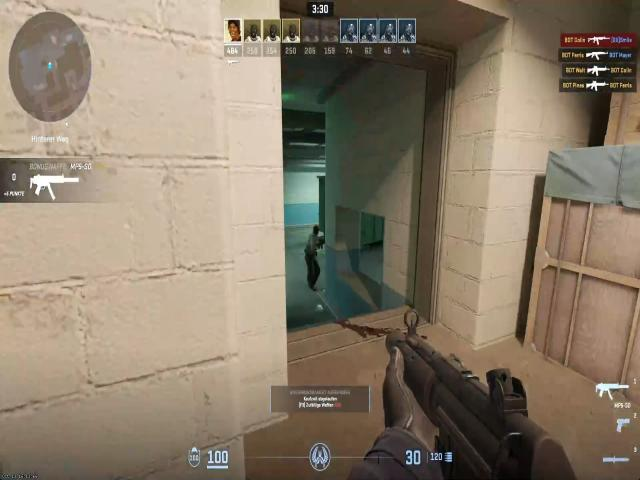T: (305, 215, 321, 272)
T-Head: (311, 223, 321, 238)
